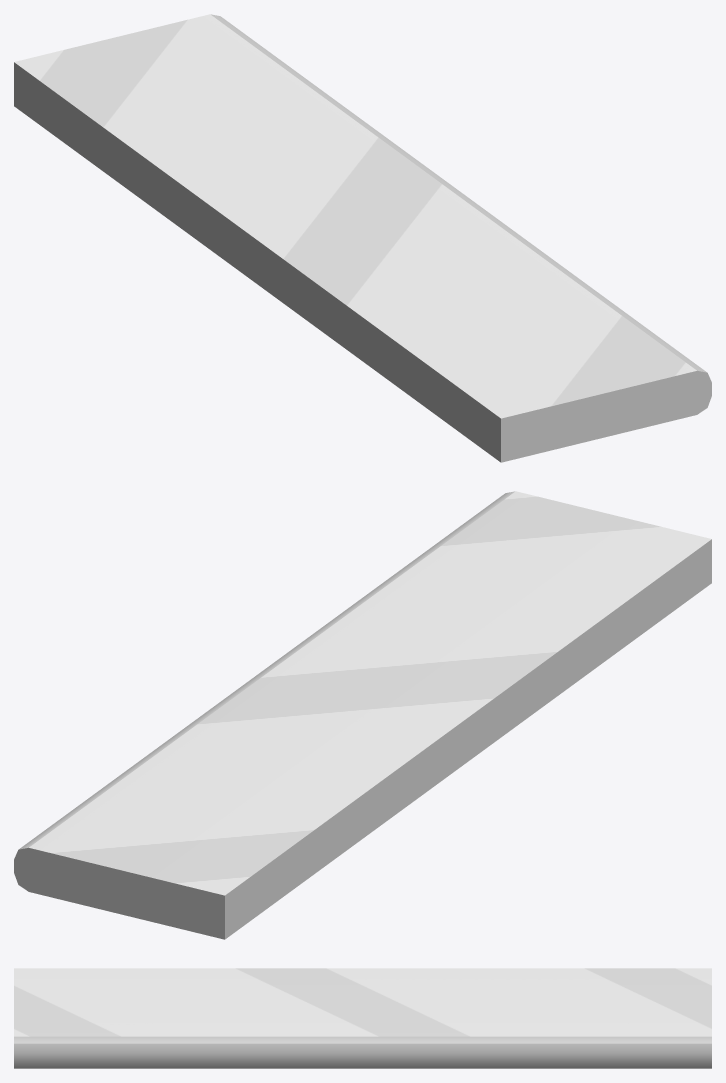
The model's file is floor_straight_half_left.fbx.
3 views of the same model, one above another, from view 1: azimuth 30°, elevation 25°; view 2: azimuth 150°, elevation 25°; view 3: azimuth 270°, elevation 25° (orthographic). The views are drawn at different scales.
Parts seen in each view (by area): view 1: floor_straight_half_left; view 2: floor_straight_half_left; view 3: floor_straight_half_left.
Part boxes in pixels (x1,y1,x2,y2): floor_straight_half_left: [14, 14, 711, 462]; floor_straight_half_left: [14, 491, 711, 939]; floor_straight_half_left: [14, 968, 711, 1068].
Bounding box in the file's own units: 250 × 50 × 1000.
2 materials, 1 textured.
